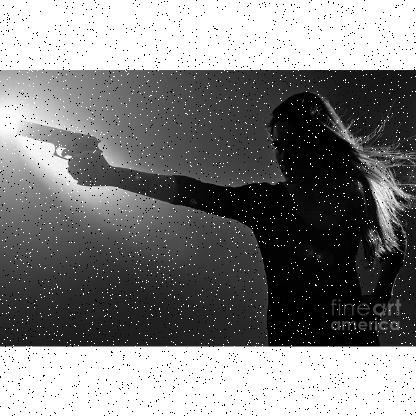gun: (9, 116, 102, 188)
